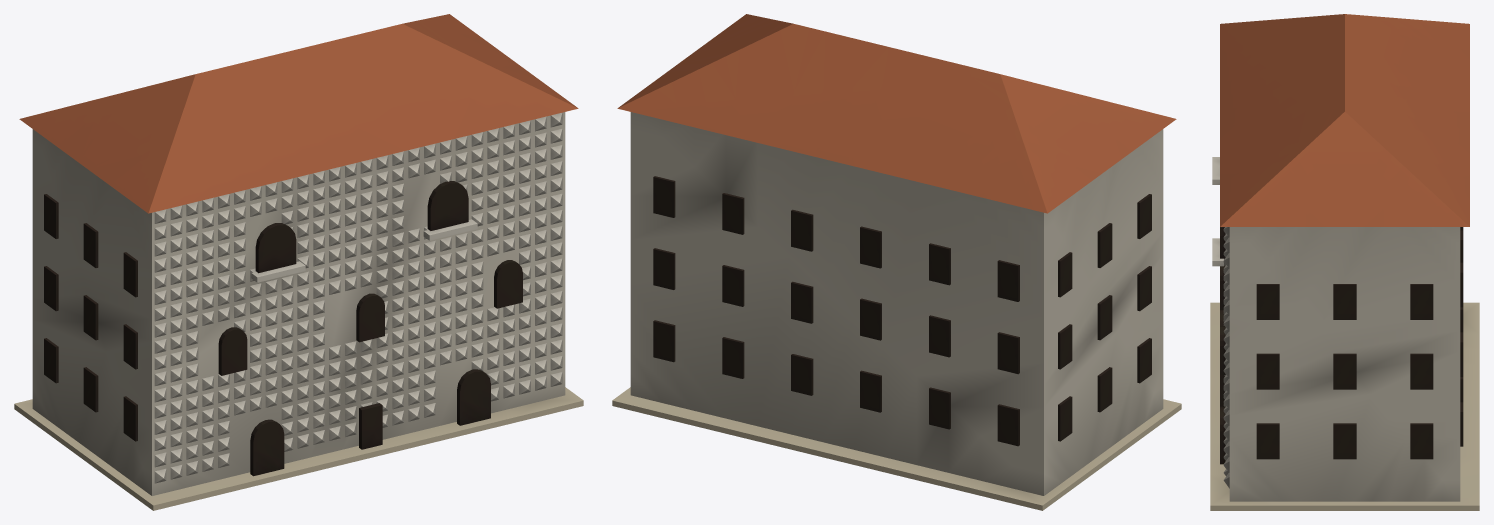
File: casa-dos-bicos.glb
The picture shows the model from 3 angles, left to right: view 1: azimuth 30°, elevation 25°; view 2: azimuth 150°, elevation 25°; view 3: azimuth 270°, elevation 25°; orthographic projection. The views are drawn at different scales.
Visible parts, largest first — view 1: p1_house, p2_windows, p0_ground; view 2: p1_house, p2_windows, p0_ground; view 3: p1_house, p2_windows, p0_ground.
Boxes of the visible parts, x1,y1,x2,y2 form: p1_house: (19,14,578,495); p2_windows: (44,181,522,476); p0_ground: (14,387,583,510); p1_house: (617,14,1176,495); p2_windows: (653,176,1151,446); p0_ground: (612,387,1181,510); p1_house: (1220,14,1469,501); p2_windows: (1212,157,1463,464); p0_ground: (1210,302,1479,510).
Size of the model in its own units: 25 by 19.9 by 14.
